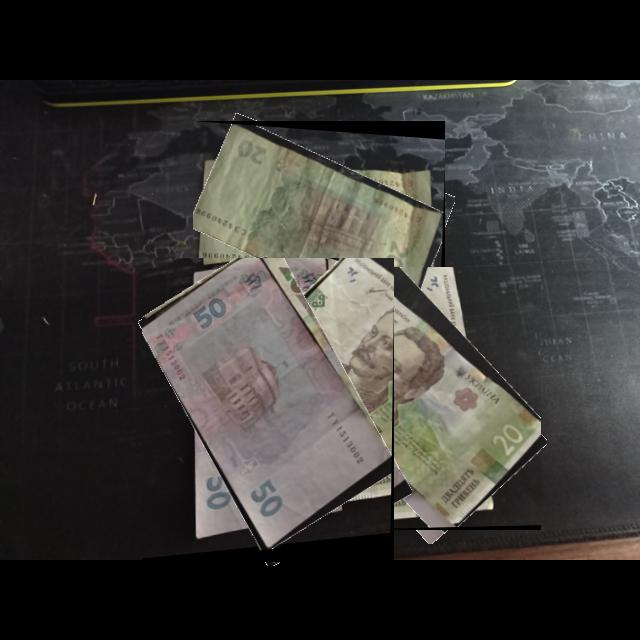20uah: (269, 267, 542, 529), (193, 124, 445, 309)
50uah: (142, 258, 393, 553)
